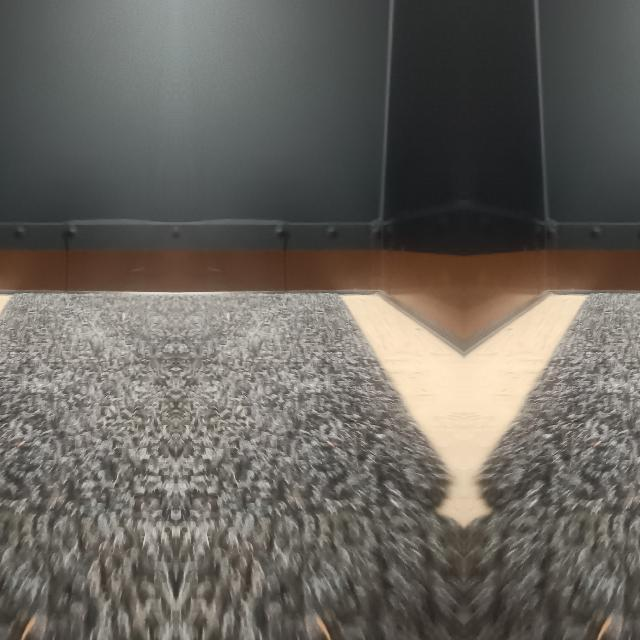obstacle: (174, 125, 396, 288), (0, 125, 175, 288), (531, 125, 640, 288)
